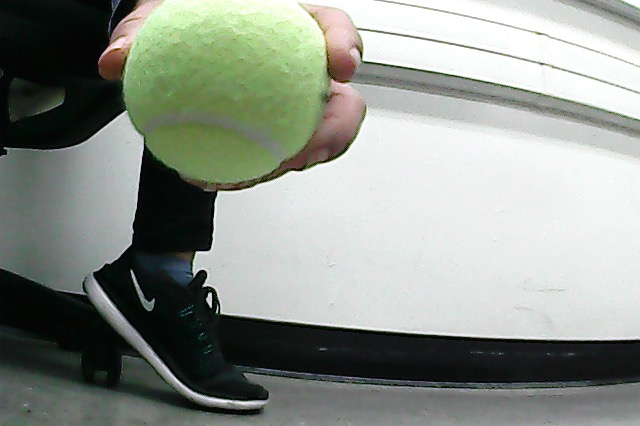ball: (122, 4, 331, 190)
